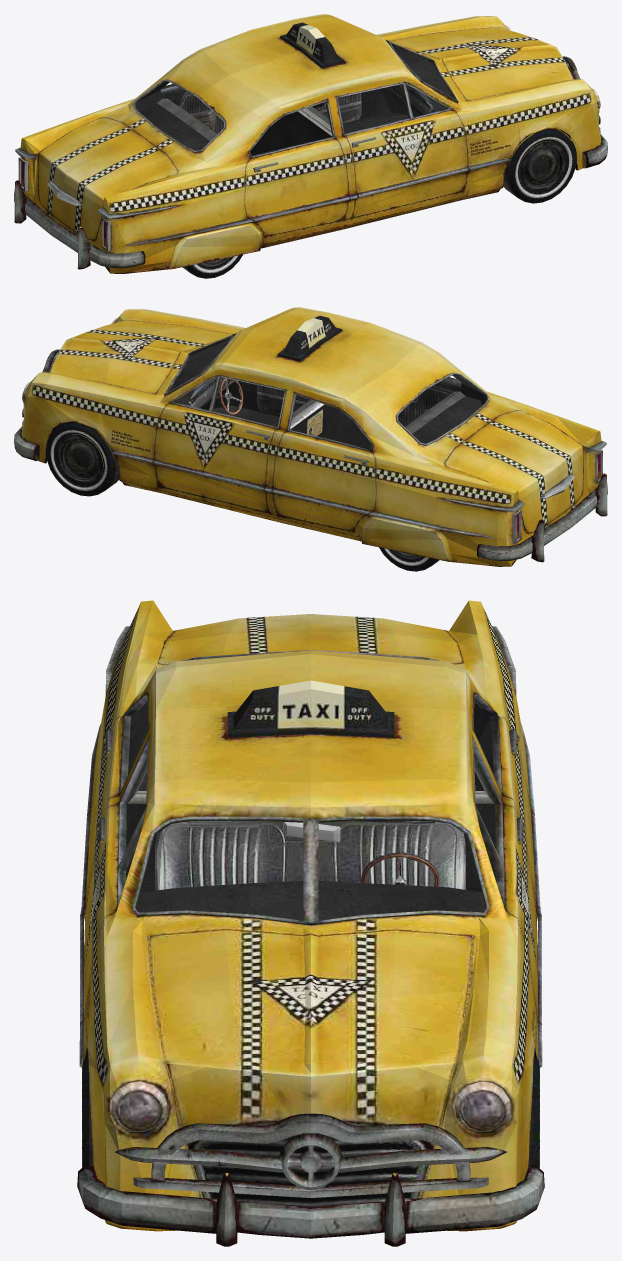
The model's file is taxi.fbx.
3 renders of one model, top to bottom at view 1: azimuth 30°, elevation 25°; view 2: azimuth 150°, elevation 25°; view 3: azimuth 270°, elevation 25°, orthographic. The views are drawn at different scales.
Parts seen in each view (by area): view 1: skp64A3_1; view 2: skp64A3_1; view 3: skp64A3_1.
Part boxes in pixels (left/top/right/bottom): skp64A3_1: left=14, top=14, right=607, bottom=278; skp64A3_1: left=14, top=307, right=607, bottom=571; skp64A3_1: left=77, top=600, right=544, bottom=1246.
Size of the model in its own units: 256 by 81.26 by 98.17.
